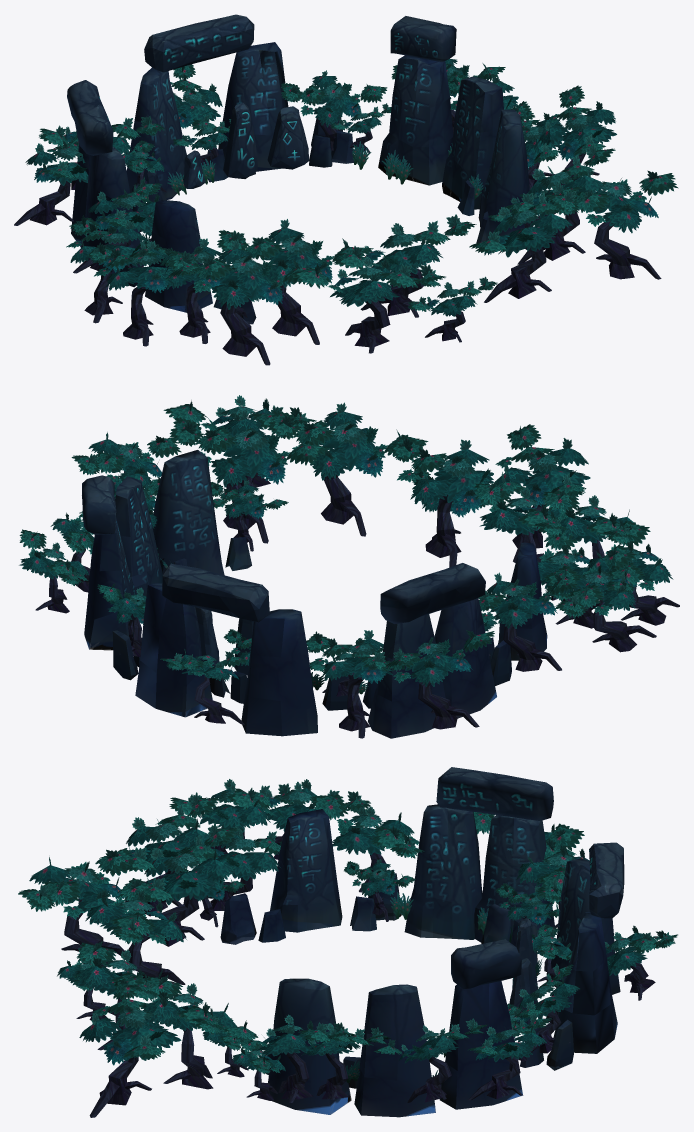
The model's file is T1-Background.fbx.
3 renders of one model, top to bottom at view 1: azimuth 30°, elevation 25°; view 2: azimuth 150°, elevation 25°; view 3: azimuth 270°, elevation 25°, orthographic. The views are drawn at different scales.
Visible parts, largest first — view 1: Background; view 2: Background; view 3: Background.
Part boxes in pixels (x1,y1,x2,y2): Background: [14, 14, 678, 365]; Background: [19, 395, 679, 738]; Background: [18, 767, 677, 1117].
Size of the model in its own units: 272 by 70.93 by 269.
Materials: 2 (2 with a texture image).
